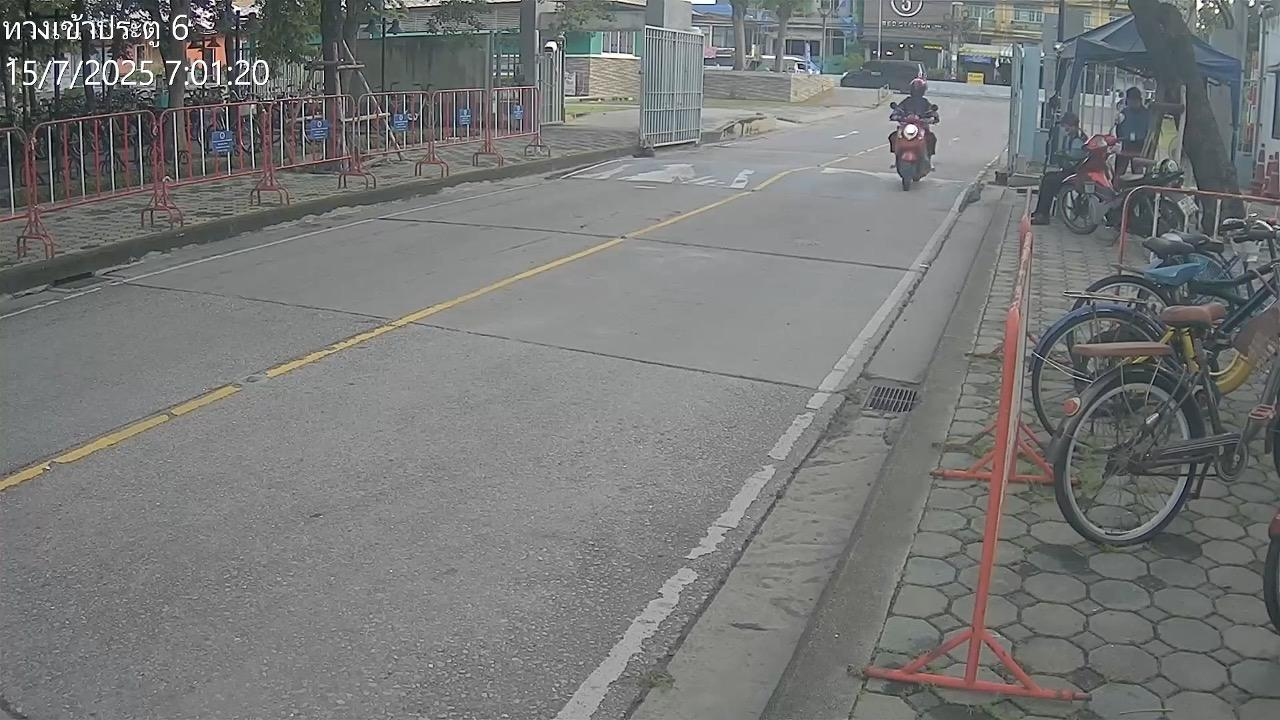With-Helmet: (909, 78, 926, 97)
